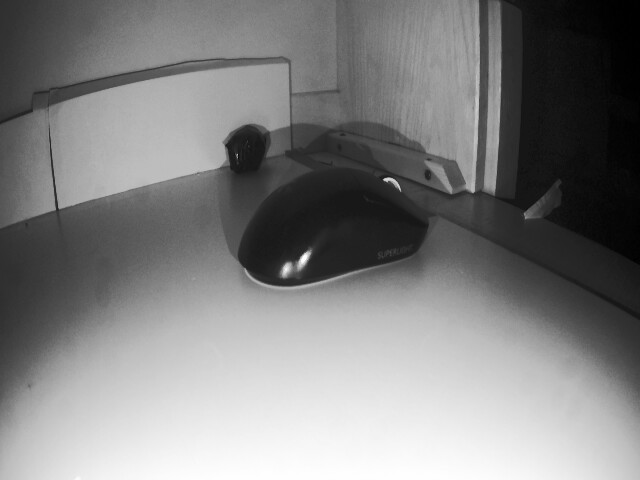black: (223, 126, 274, 175)
